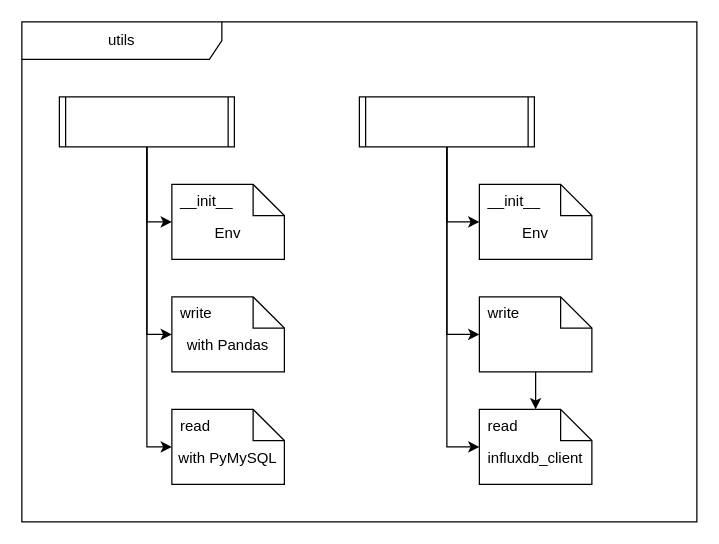
Image size: 719x544. Some labels were removed from this diagram. Here are the shapes that lost their labels. From the top down, the centre of each, then its label:
pixel 146 121: MySQL
pixel 446 121: InfluxDB
pixel 535 334: influx_client
